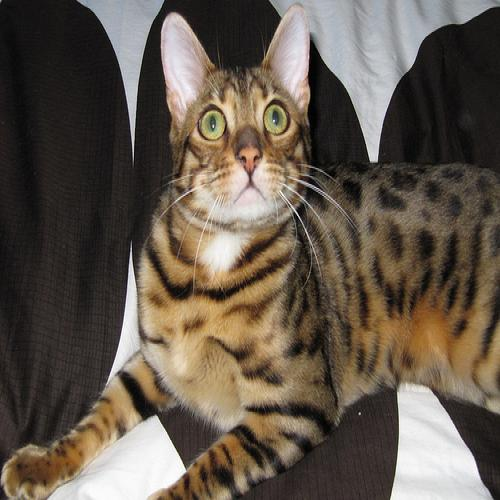bengal: (160, 5, 319, 249)
